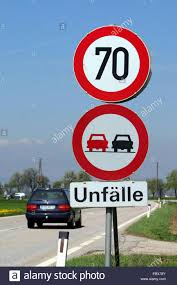Speed_limit_70km: (72, 26, 151, 102)
